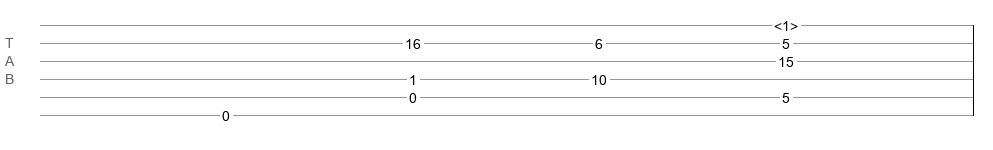0: (222, 108, 230, 118), (409, 90, 417, 100)
1: (409, 72, 417, 82)
10: (591, 72, 607, 82)
15: (778, 54, 794, 64)
16: (405, 36, 421, 46)
5: (782, 90, 790, 100), (782, 36, 790, 46)
6: (595, 36, 603, 46)
harmonic: (774, 18, 798, 28)
